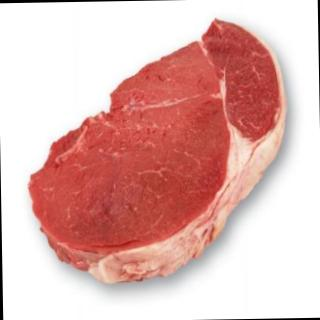Daging Sapi: (26, 16, 291, 287)
